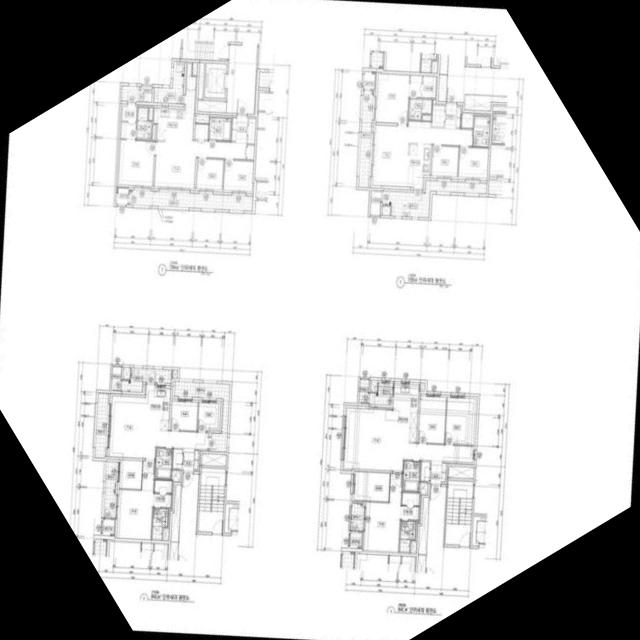background: (0, 0, 640, 640)
space_balconi: (382, 180, 487, 218), (174, 382, 230, 452), (129, 190, 253, 211), (358, 90, 374, 188), (153, 61, 185, 104), (122, 368, 172, 392), (95, 393, 109, 459), (103, 461, 117, 518), (369, 383, 393, 409), (351, 503, 364, 531)
space_bedroom: (364, 474, 402, 553), (117, 461, 155, 540), (118, 140, 155, 186), (376, 74, 410, 124), (445, 398, 476, 445), (418, 396, 446, 444), (223, 160, 253, 191), (458, 147, 488, 178), (432, 146, 459, 177), (197, 159, 224, 190), (171, 401, 198, 431), (198, 403, 219, 432)
space_dressroom: (410, 76, 436, 99), (121, 104, 137, 139), (401, 493, 420, 520), (154, 480, 172, 508)
space_elevator: (205, 63, 227, 99)
space_elevator_hall: (227, 45, 257, 114)
space_front: (231, 115, 248, 143), (445, 103, 461, 129), (430, 461, 447, 484), (182, 448, 199, 470)
space_kitchen: (153, 64, 196, 141), (391, 384, 419, 442), (144, 385, 171, 431), (406, 143, 431, 188)
space_living_room: (344, 408, 473, 471), (373, 121, 473, 187), (109, 396, 208, 459), (155, 139, 247, 188)
space_multipurpose_space: (354, 472, 390, 502), (119, 460, 142, 489)
space_other: (418, 498, 429, 555), (171, 485, 182, 542), (121, 86, 152, 103), (197, 100, 227, 113), (449, 466, 474, 479), (201, 454, 226, 467), (432, 106, 445, 127), (370, 191, 381, 215), (359, 380, 369, 404), (195, 124, 209, 140), (198, 63, 204, 99), (112, 367, 121, 391), (420, 462, 430, 482), (248, 119, 256, 144), (461, 114, 474, 128), (173, 449, 182, 469), (247, 145, 254, 160), (196, 115, 209, 123), (172, 470, 180, 481), (382, 206, 390, 216), (419, 483, 427, 493), (123, 368, 130, 379), (371, 382, 378, 392), (148, 108, 153, 120), (152, 125, 156, 140), (163, 529, 168, 541), (411, 541, 416, 553), (423, 115, 431, 121), (173, 370, 178, 379), (193, 64, 197, 75), (420, 384, 424, 391)
space_outdoor_room: (364, 71, 376, 90), (350, 532, 362, 549), (103, 519, 115, 536)
space_staircase: (445, 481, 473, 546), (198, 468, 226, 533)
space_toilet: (155, 448, 173, 480), (399, 521, 416, 553), (136, 107, 152, 140), (473, 116, 490, 147), (403, 461, 420, 492), (152, 508, 168, 540), (209, 118, 231, 141), (409, 99, 432, 120)
